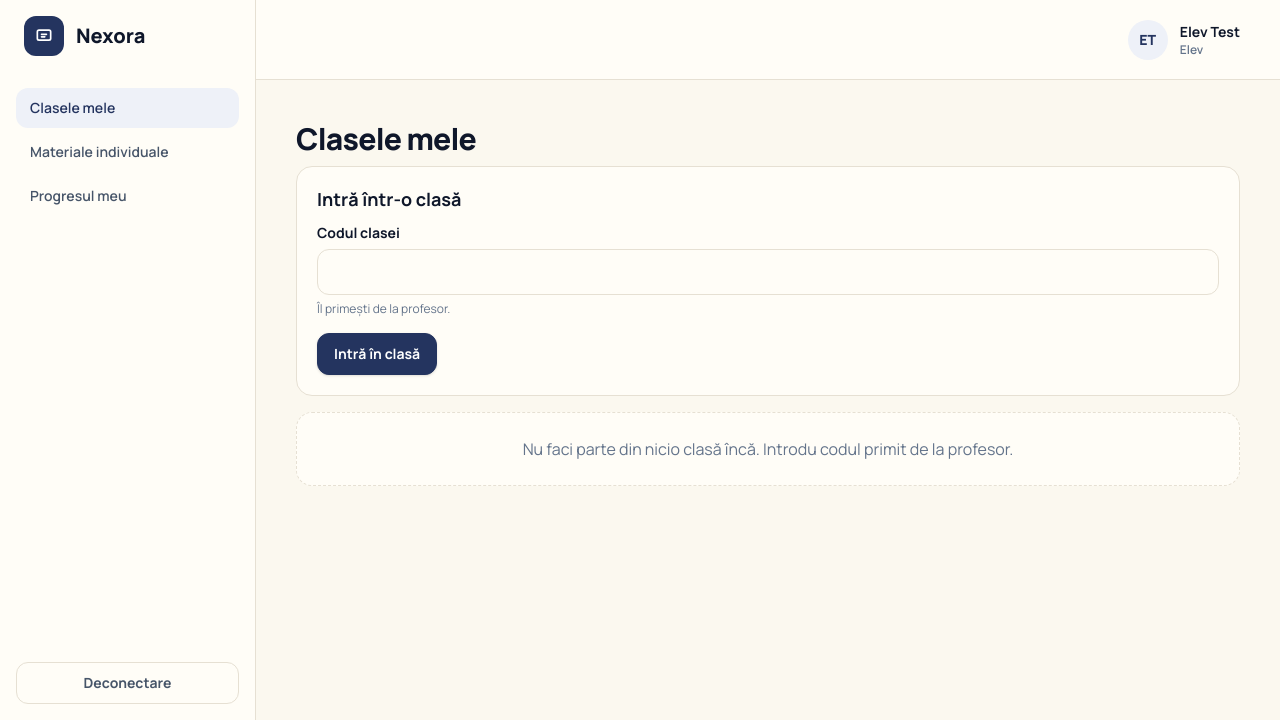
Test case: signing out › logs out, shows the login page, and protects the pages again
The width and height of the screenshot is (1280, 720).
Click the button "Deconectare": {"x": 128, "y": 683} top-left (16, 662), bottom-right (239, 704)
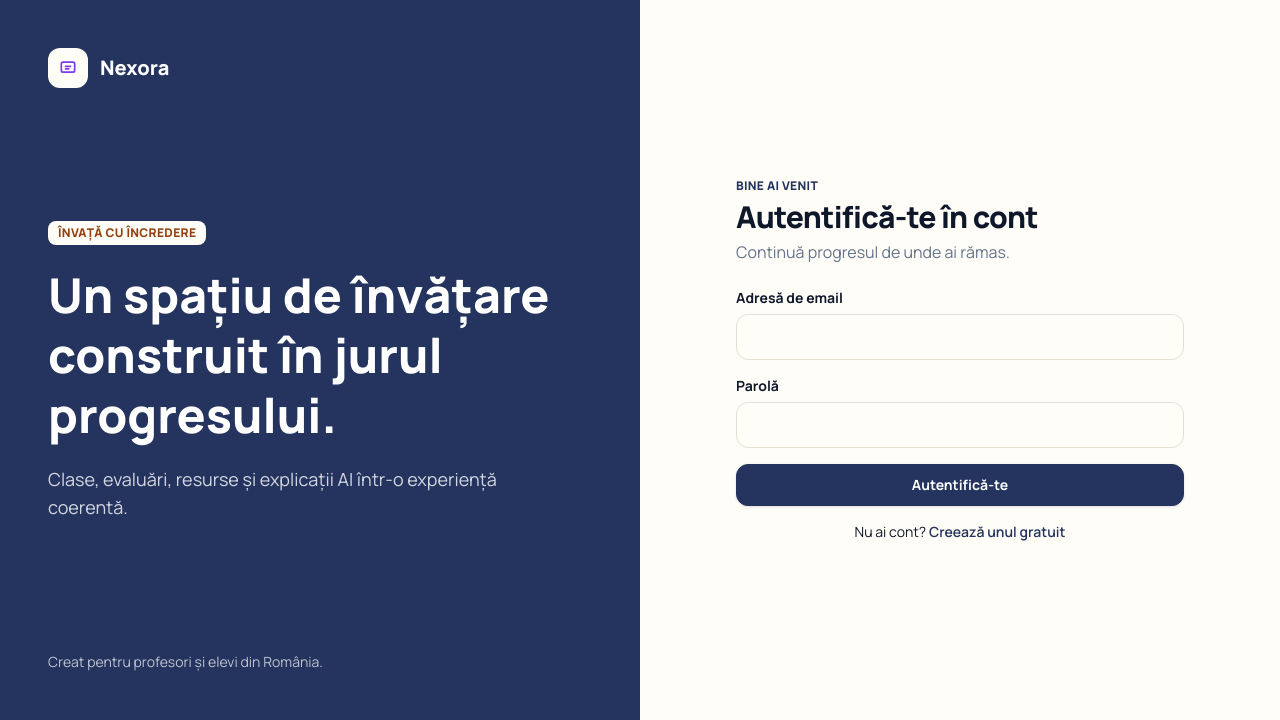
Expected: the heading "Autentifică-te în cont" is shown, top-left (736, 196), bottom-right (1038, 237)
Expected: the button "Deconectare" is gone
Expected: the text "Elev Test" is gone
